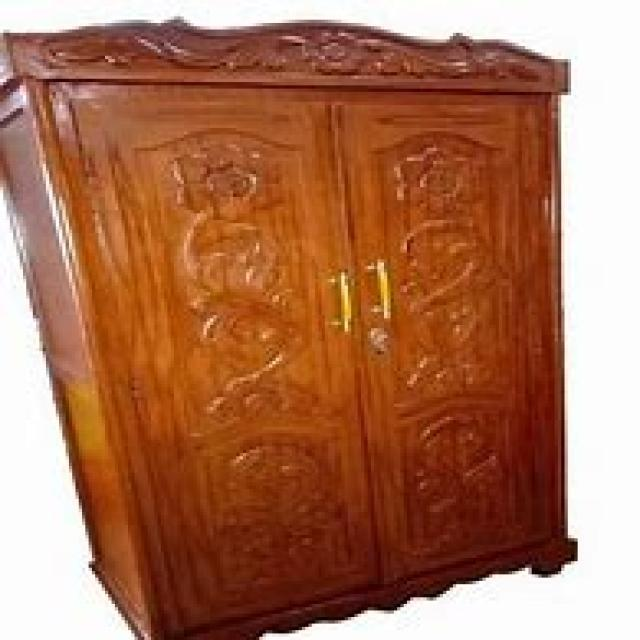dolap: (0, 13, 578, 637)
